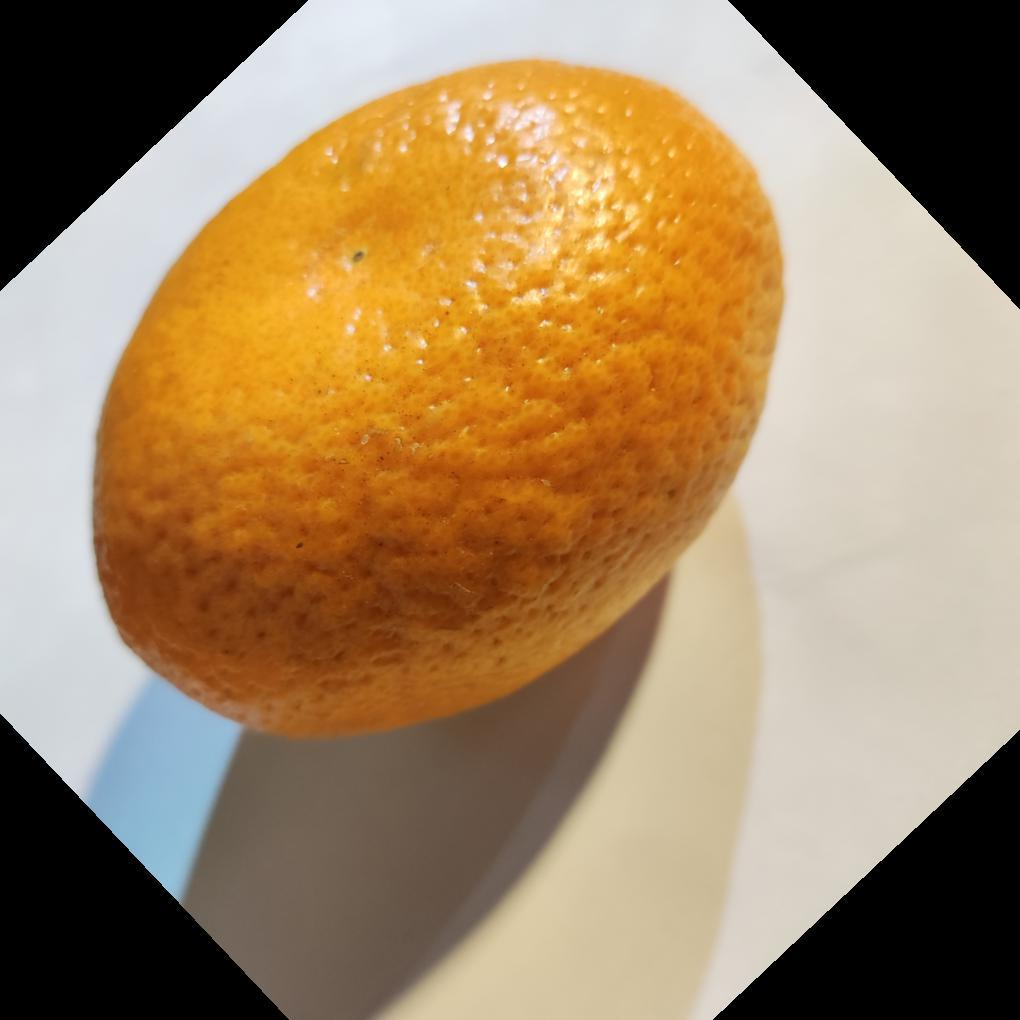FreshGuava: (86, 57, 787, 745)
